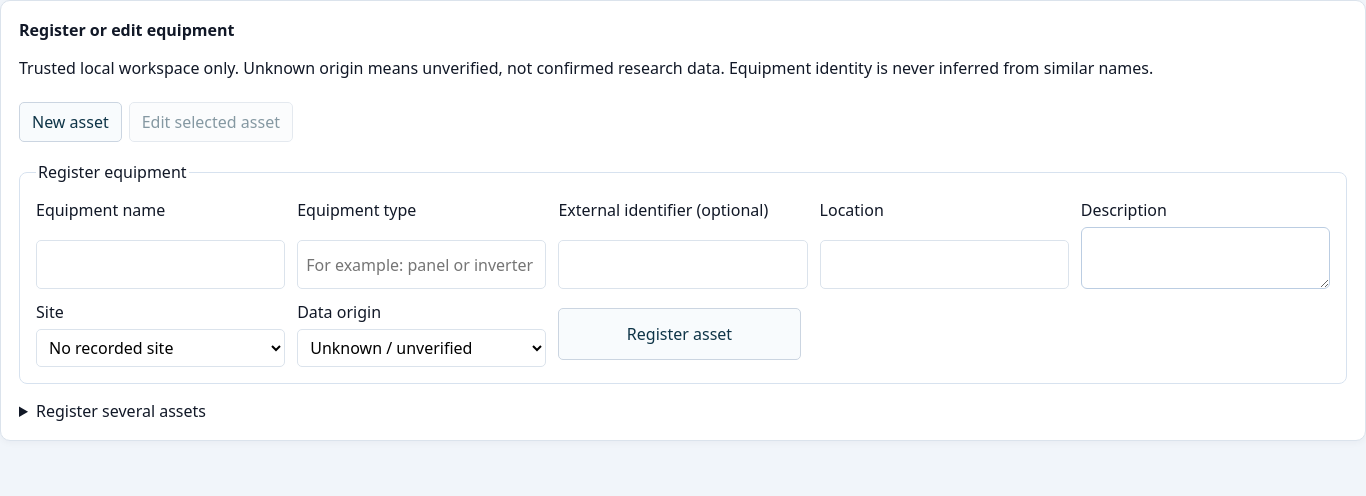
Test case: retains the retry key after an uncertain failed save and never reports false success
The image size is (1366, 496).
Later steps or results of the test are not shown.
Step 1. Type "Fictional panel" into the field labelled "Equipment name" → (161, 264), box [36,240,285,289]
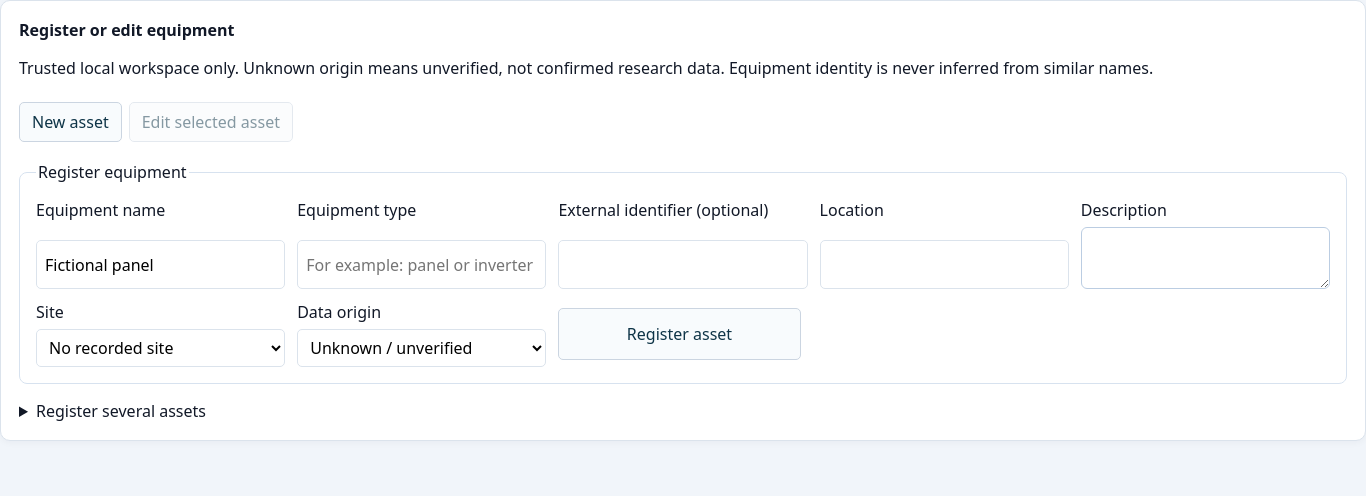
Step 2. Type "panel" into the field labelled "Equipment type" → (422, 264), box [297,240,546,289]
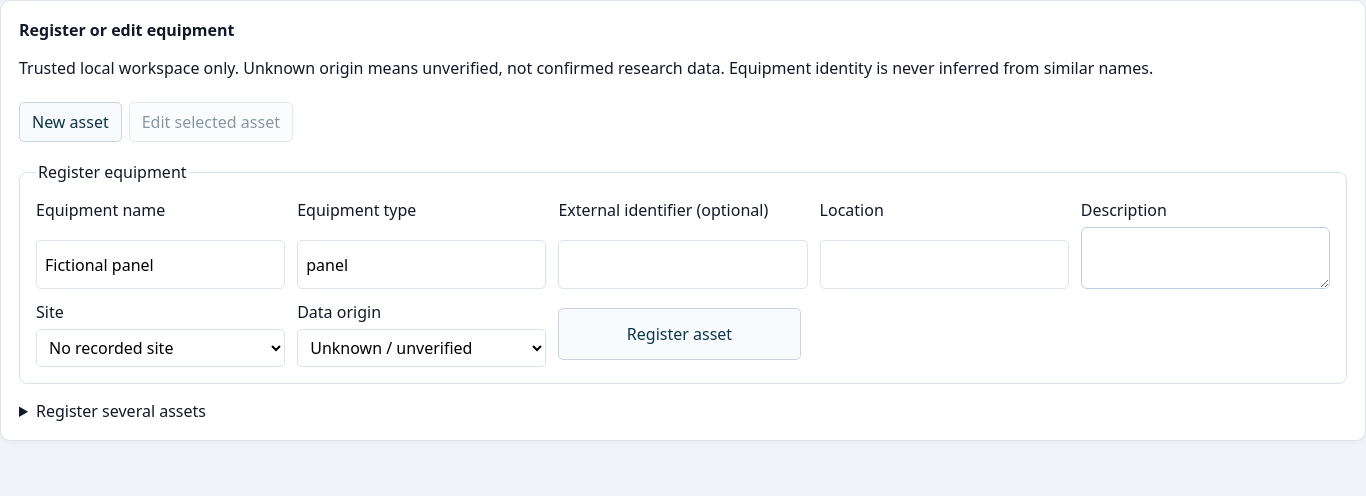
Step 3. Type "FIX-1" into the field labelled "External identifier (optional)" → (683, 264), box [558,240,808,289]
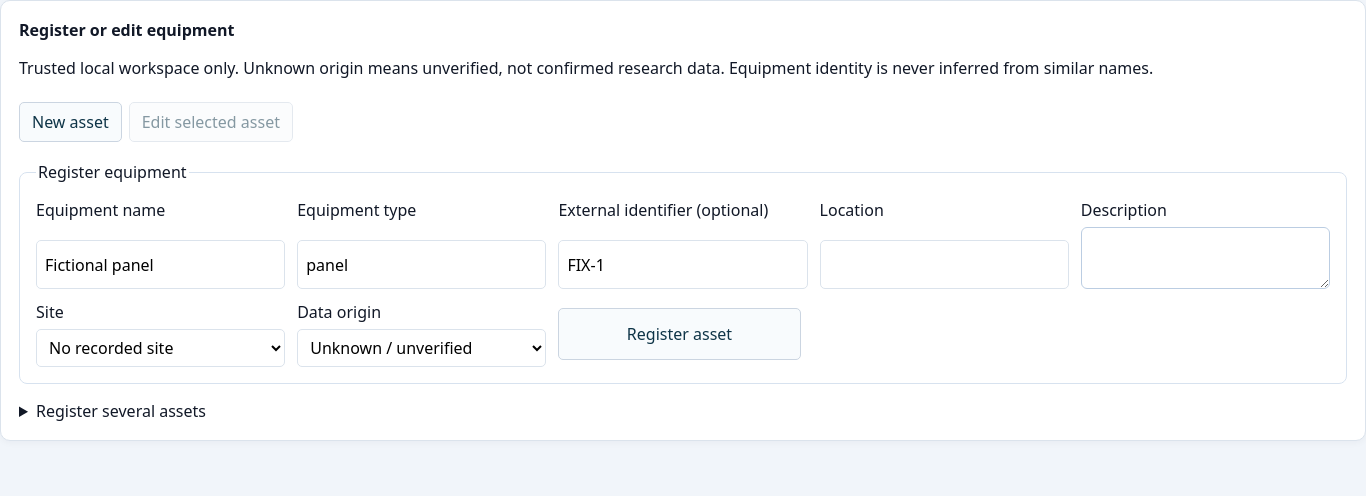
Step 4. Click the button "Register asset" → click(680, 334), box [558,308,801,360]
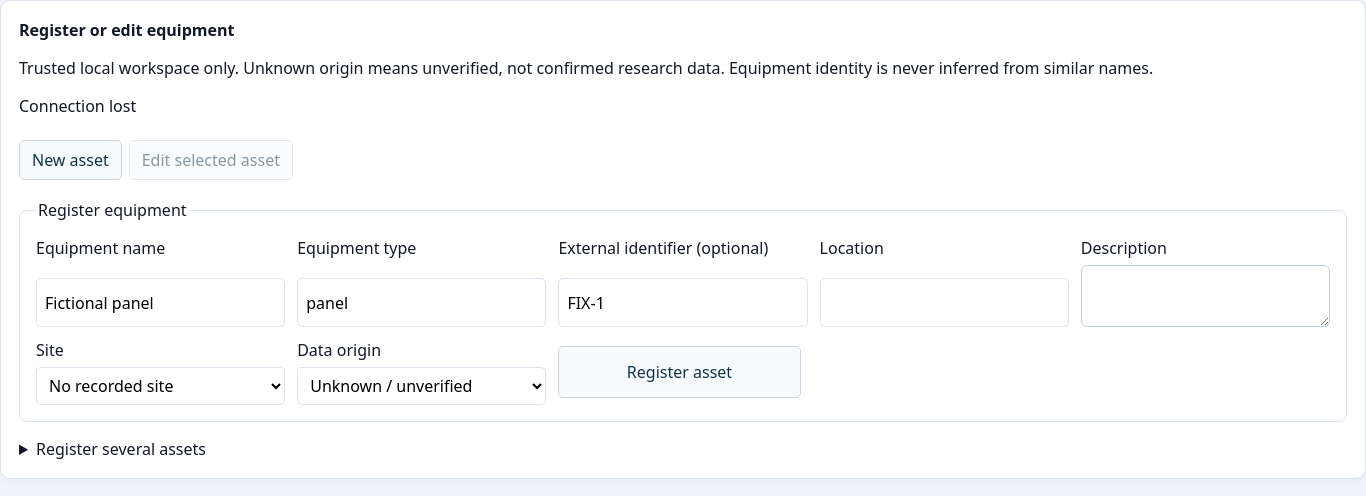
Now the message reads "Connection lost", box [19,95,136,117]
